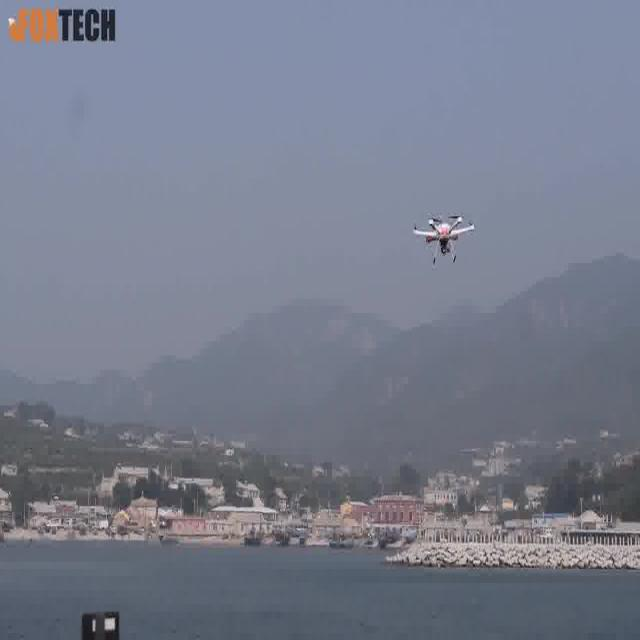drone: (412, 210, 477, 269)
